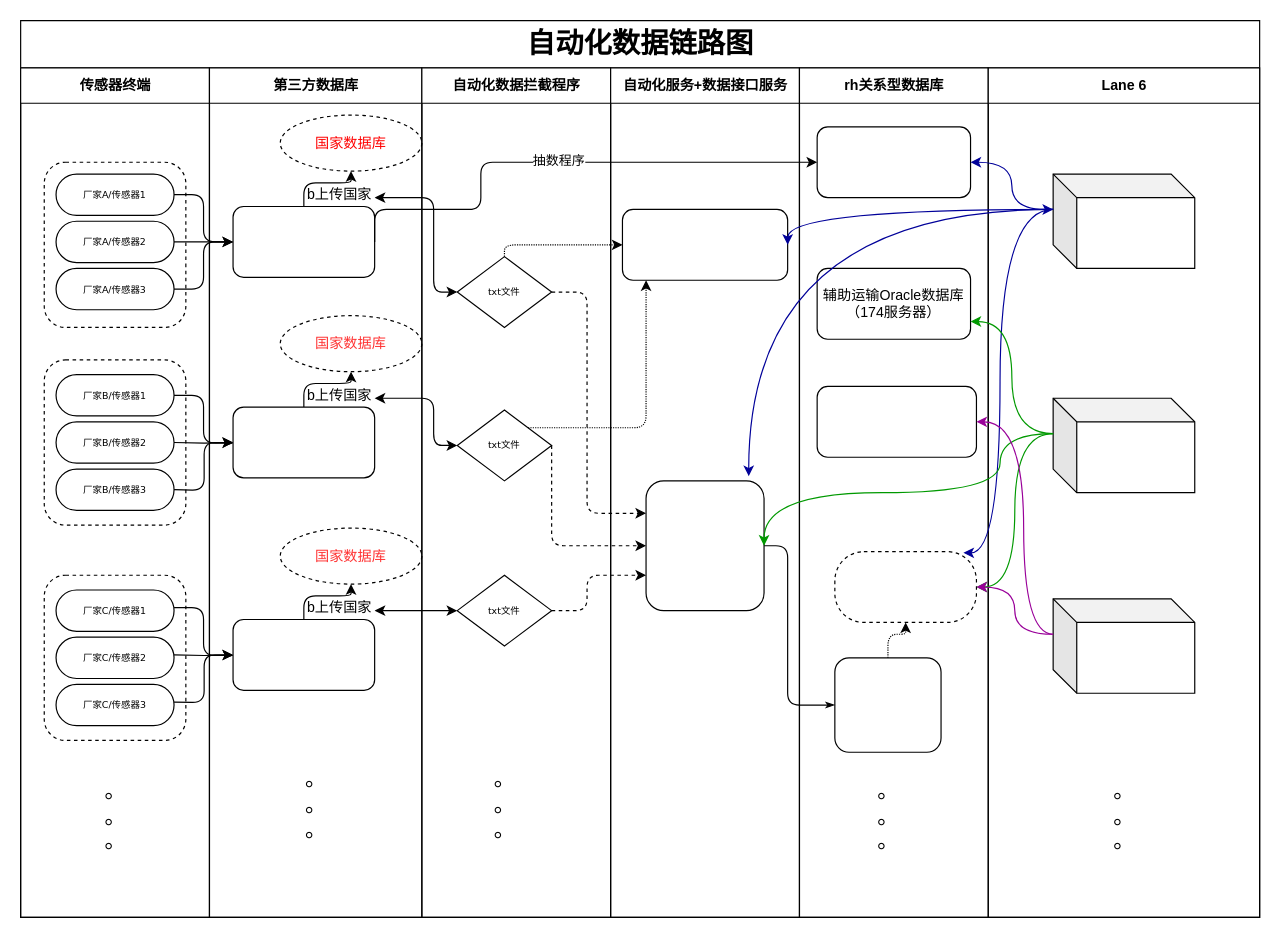
The diagram is 1280 pixels wide and 938 high, and some of its shapes have lost their labels. Each missing label, with the centre of its shape:
"OPC Server" goes at (704,545).
"RealAutomateService" goes at (704,244).
"产量平衡Oracle数据库 （252服务器）" goes at (896,421).
"产量平衡系统" goes at (1123,645).
"厂家A数据库 （表a:原始数据 表b:合规数据）" goes at (303,241).
"厂家B数据库 （表a:原始数据 表b:合规数据）" goes at (303,442).
"厂家C数据库 （表a:原始数据 表b:合规数据）" goes at (303,654).
"映射到Oracle外表 （188服务器）" goes at (905,586).
"矿山云图Oracle数据库 （249服务器）" goes at (893,162).
"矿山云图系统" goes at (1123,220).
"落盘到txt文件 （188服务器）" goes at (887,704).
"辅助运输系统" goes at (1123,445).
